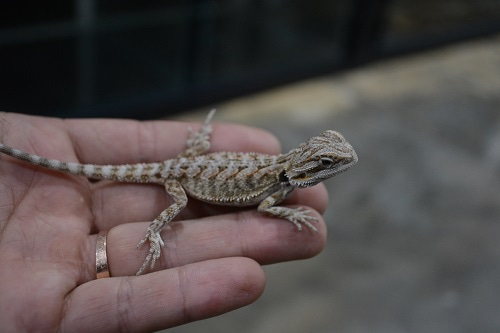bearded: (1, 106, 361, 273)
